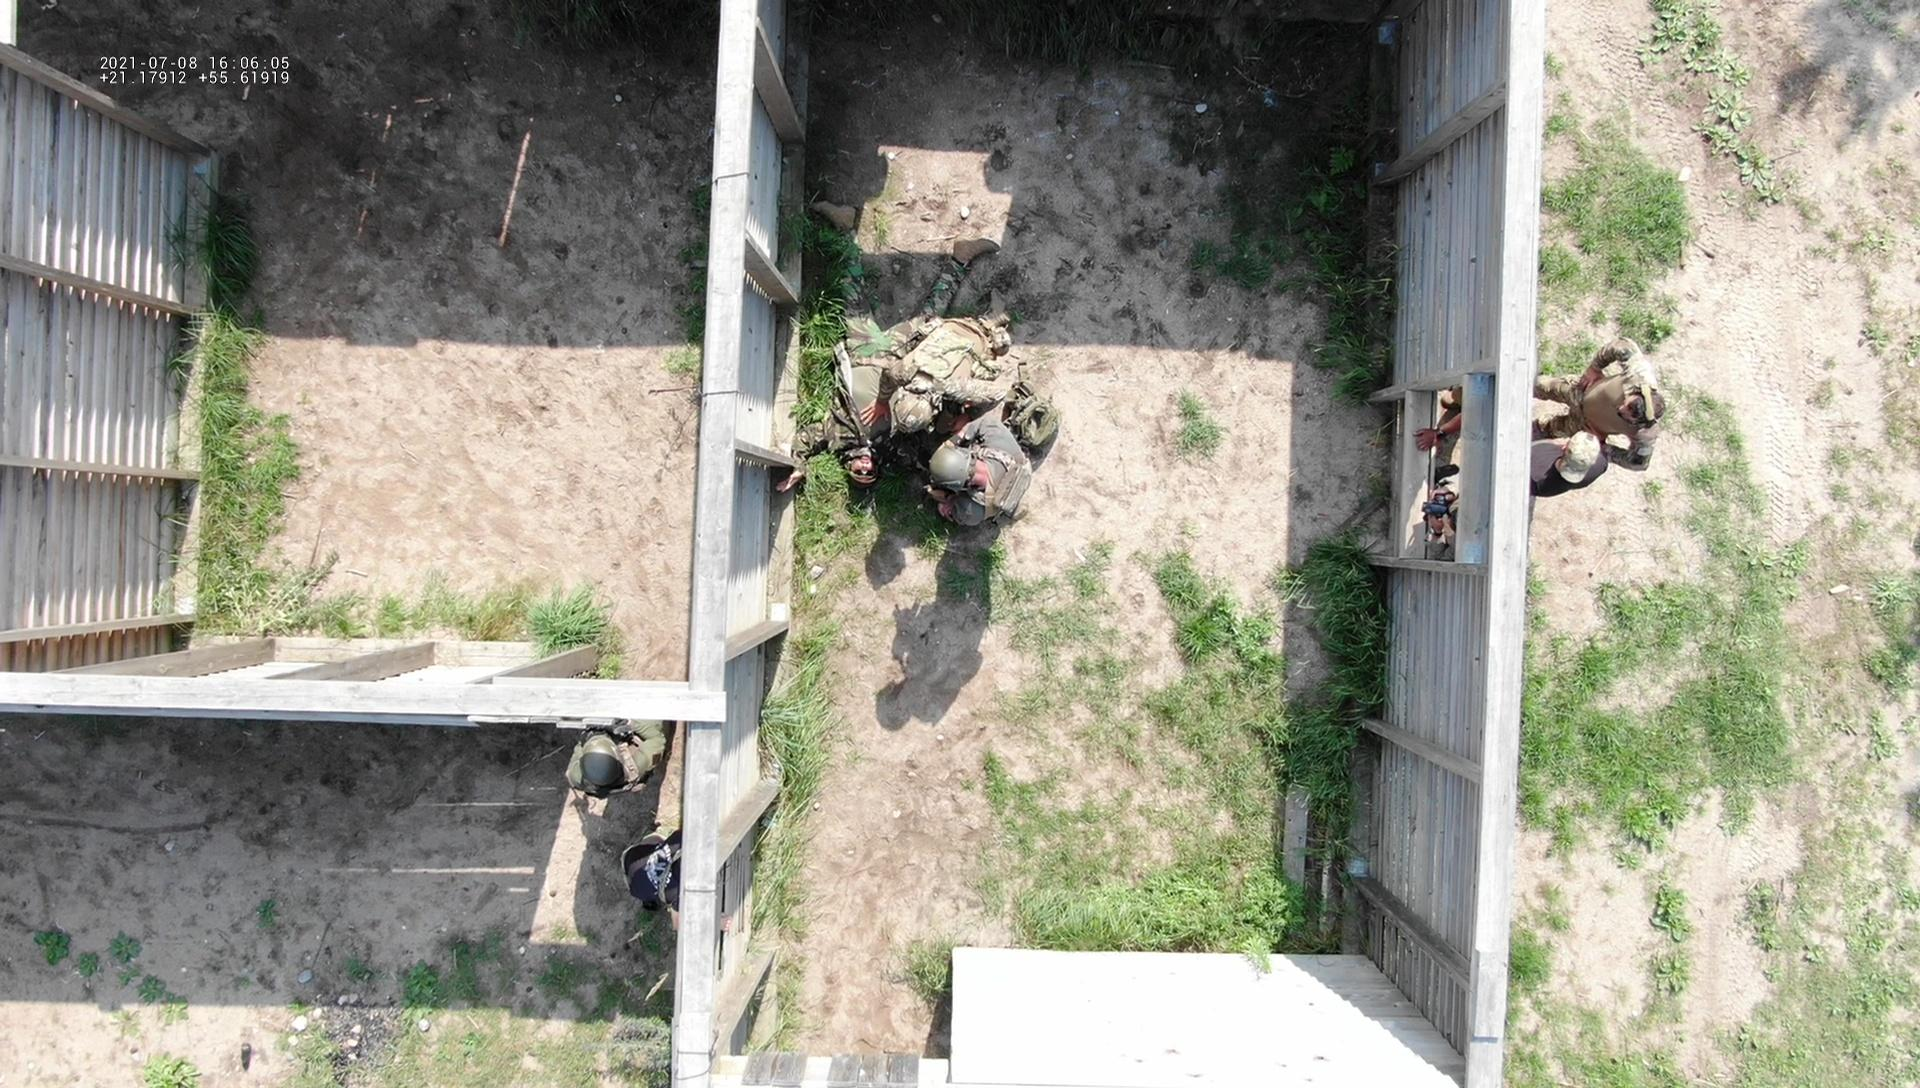Soldier: (807, 243, 899, 496), (885, 307, 1034, 442), (924, 419, 1042, 546), (578, 710, 695, 812), (1563, 355, 1660, 467)
